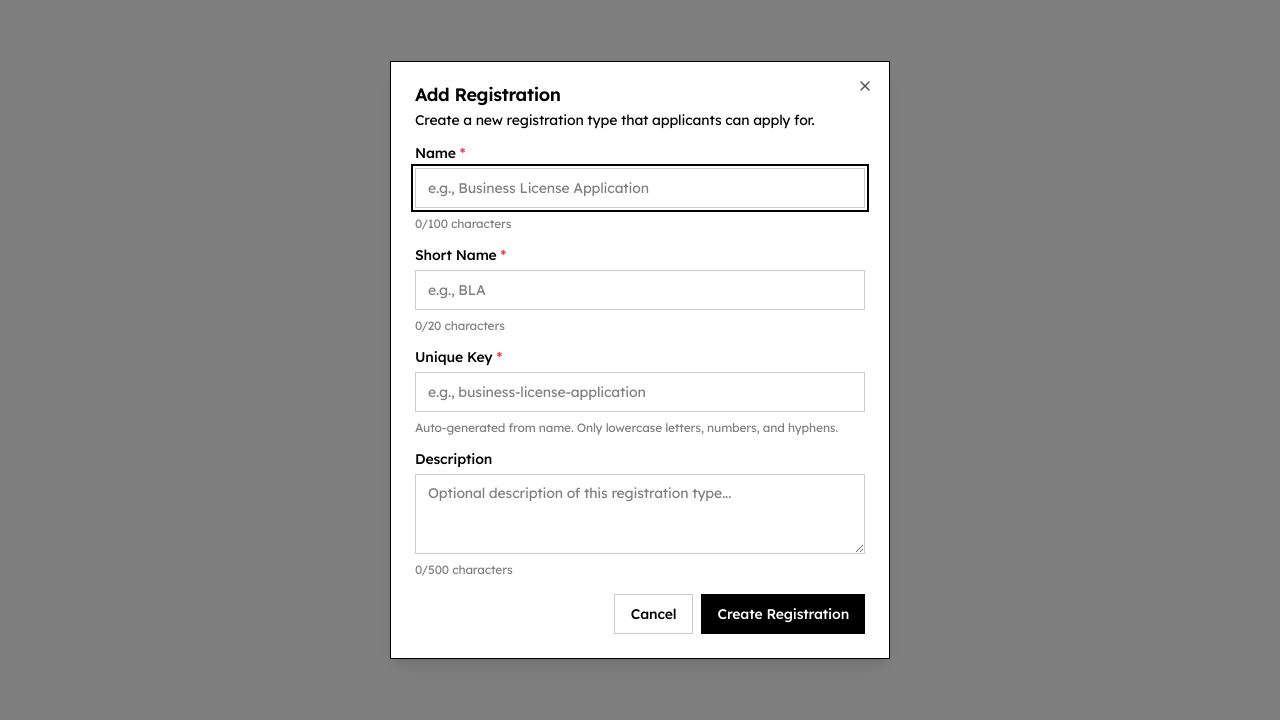
Test: RegistrationForm › Create Mode › validates required fields on submit
This screenshot has width=1280, height=720.
// Submit without filling any fields
What coordinates should you click on to do the following:
click the button "Create Registration"
I would click on:
 (783, 614)
Its box is x1=702 y1=594 x2=865 y2=634.
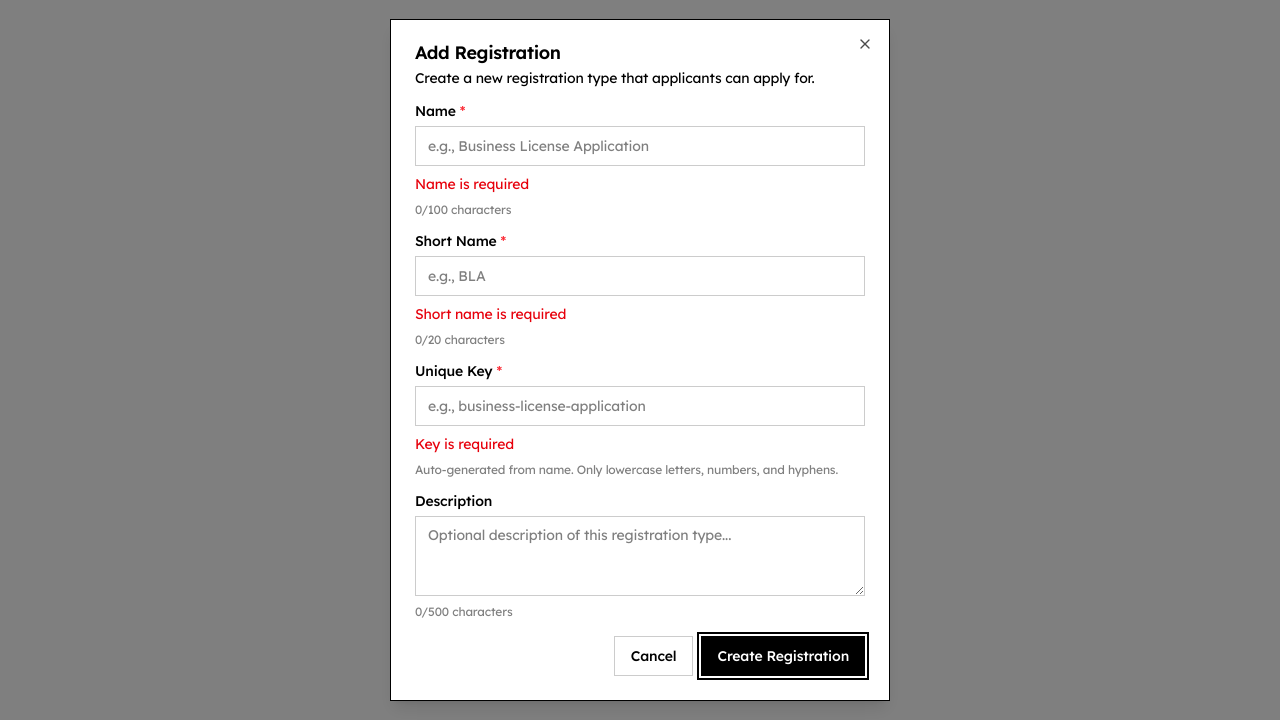
Now the text "Name is required" is shown, box x1=415 y1=175 x2=529 y2=193
Now the text "Short name is required" is shown, box x1=415 y1=305 x2=566 y2=323
Now the text "Key is required" is shown, box x1=415 y1=435 x2=514 y2=453
